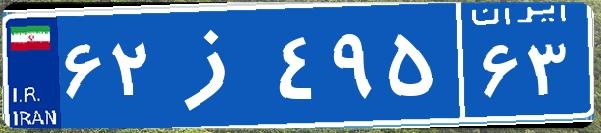2: (110, 28, 158, 105)
3: (525, 38, 570, 115)
4: (273, 28, 330, 110)
5: (385, 28, 445, 110)
6: (57, 26, 110, 107), (475, 38, 525, 113)
9: (330, 28, 385, 110)
ز: (158, 15, 273, 115)
